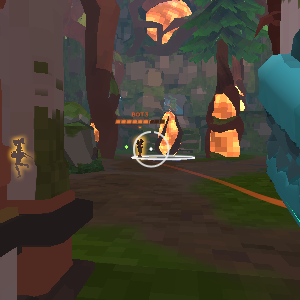model: (7, 130, 30, 183), (133, 135, 152, 160)
